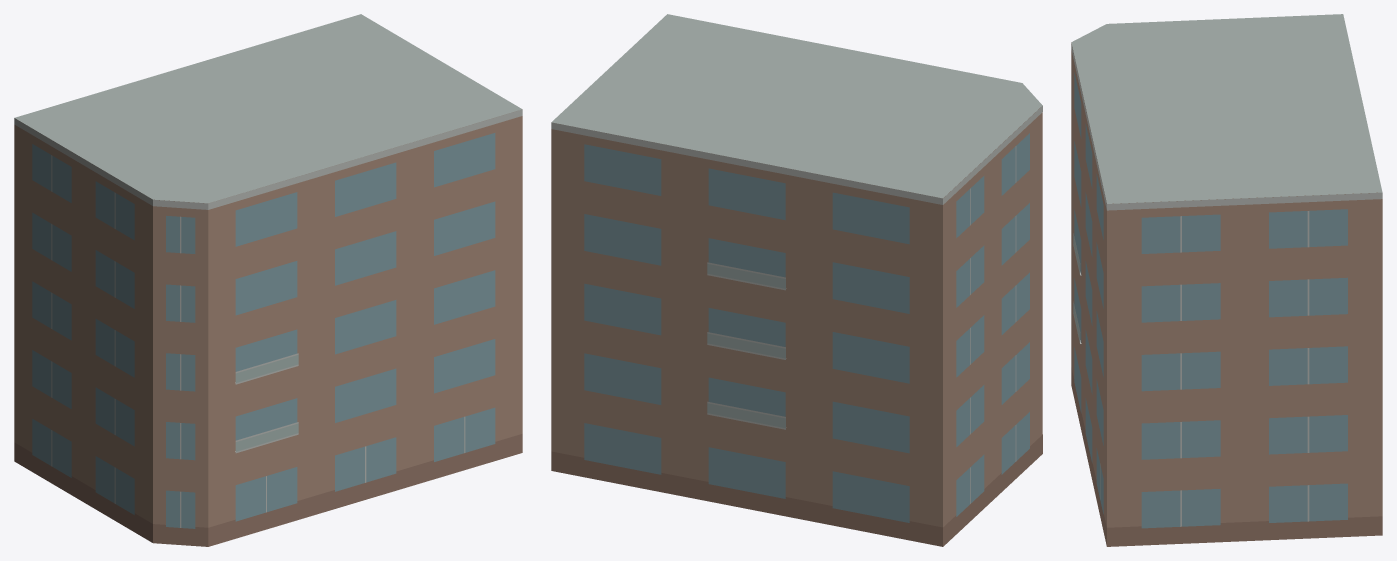
Rendered from survey-upis-32663105.glb.
3 renders of one model, left to right at view 1: azimuth 30°, elevation 25°; view 2: azimuth 150°, elevation 25°; view 3: azimuth 270°, elevation 25°, orthographic.
Parts seen in each view (by area): view 1: survey-upis-32663105.tmp; view 2: survey-upis-32663105.tmp; view 3: survey-upis-32663105.tmp.
Boxes of the visible parts, x1,y1,x2,y2 form: survey-upis-32663105.tmp: (14, 14, 522, 546); survey-upis-32663105.tmp: (551, 14, 1042, 546); survey-upis-32663105.tmp: (1071, 14, 1382, 546).
Size of the model in its own units: 15.16 by 12.75 by 10.5.
